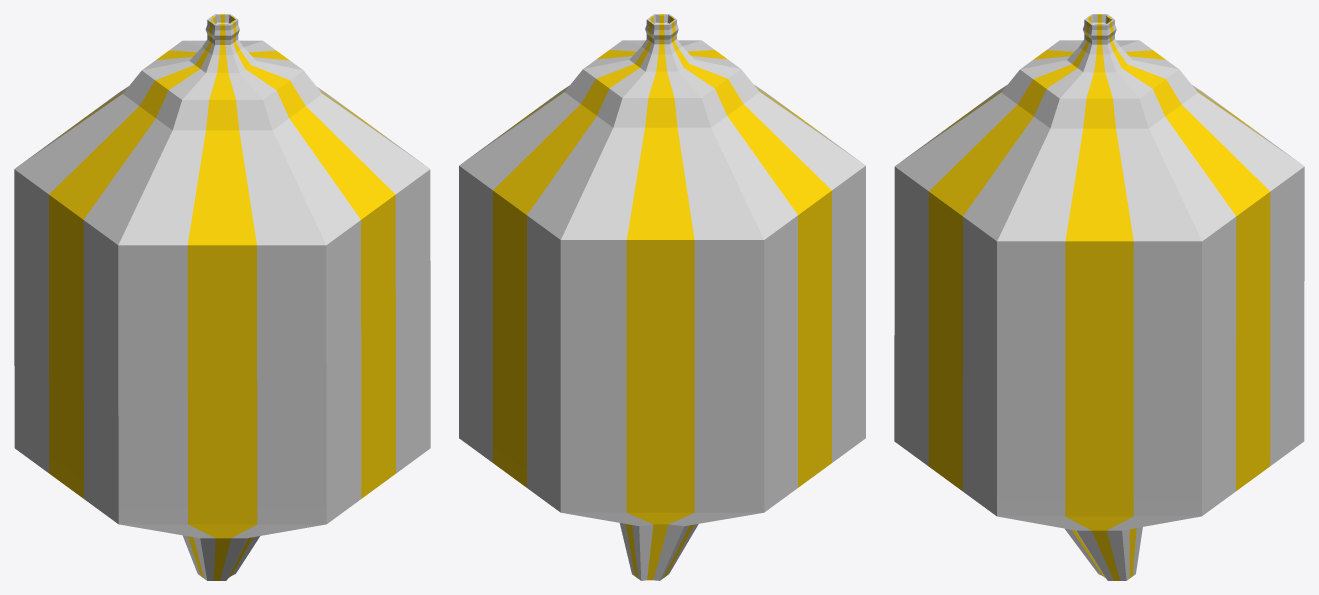
File: room.fbx
The picture shows the model from 3 angles, left to right: view 1: azimuth 30°, elevation 25°; view 2: azimuth 150°, elevation 25°; view 3: azimuth 270°, elevation 25°; orthographic projection. The views are drawn at different scales.
Parts seen in each view (by area): view 1: Cylinder; view 2: Cylinder; view 3: Cylinder.
Boxes of the visible parts, box(x1,y1,x2,y2) form: Cylinder: box(14, 14, 430, 580); Cylinder: box(459, 14, 865, 580); Cylinder: box(894, 14, 1304, 580).
Size of the model in its own units: 2323 by 3992 by 2683.
